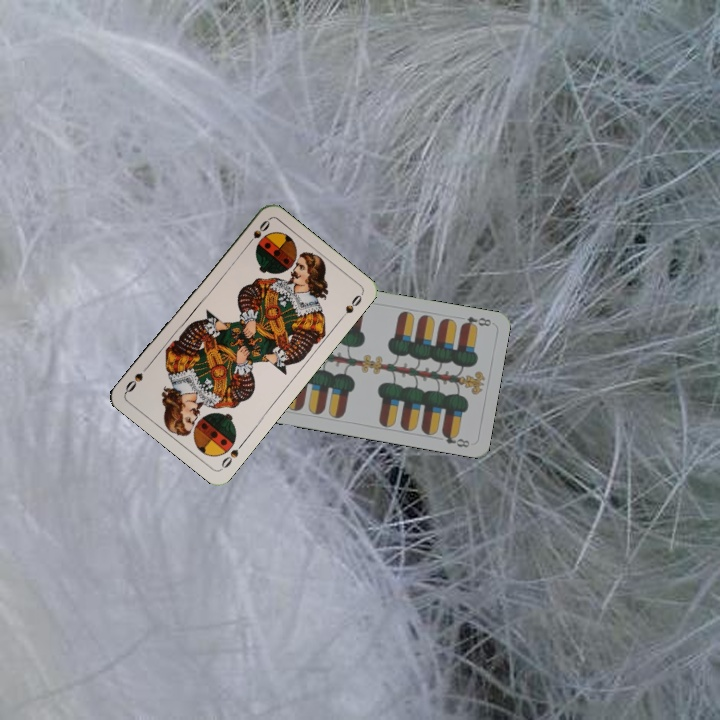E8: (458, 312, 494, 331)
SO: (242, 216, 273, 250), (217, 438, 247, 472)
